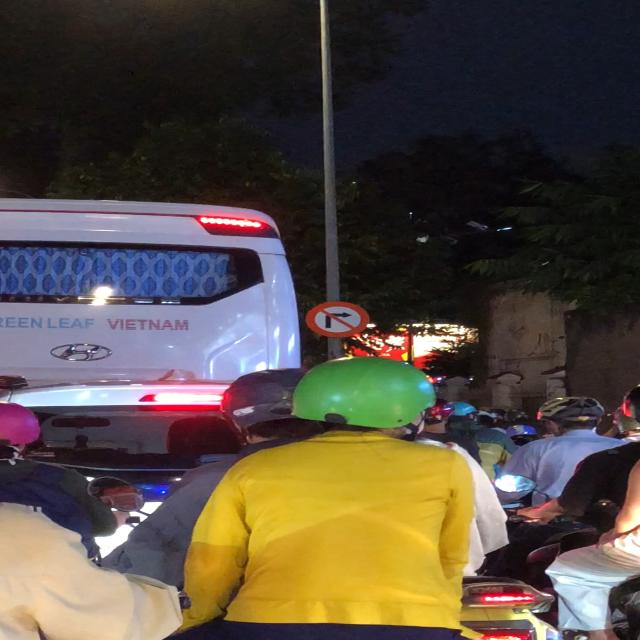Bien bao cam re phai: (302, 297, 374, 339)
